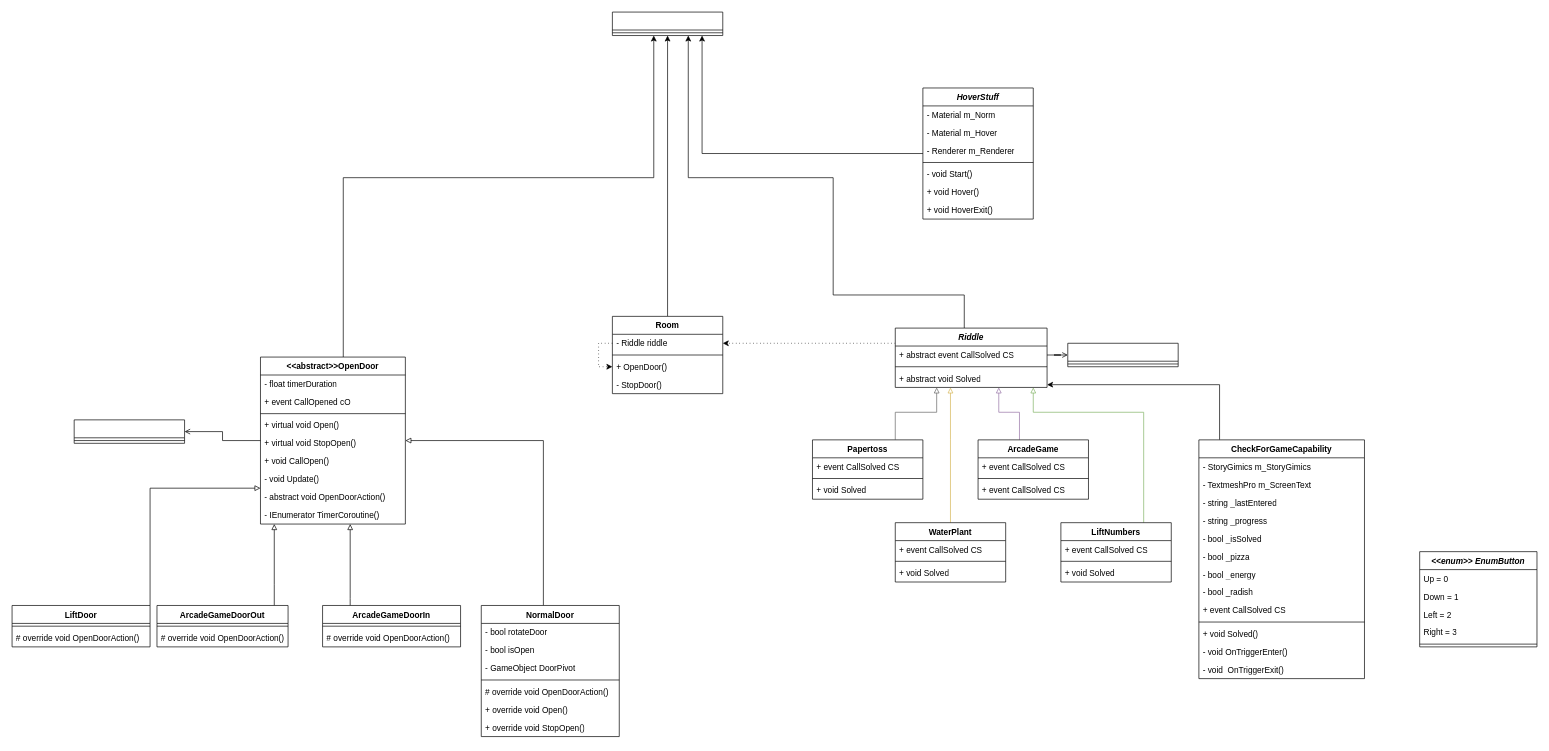
Image size: 1549x751. Some labels were removed from this diagram. Here are the shapes that lost their labels. From the top down, the centre of each, then its label:
point (667, 23): Monobehaviour
point (1122, 355): <<delegate>>CallSolved
point (129, 431): <<delegate>>CallOpened
